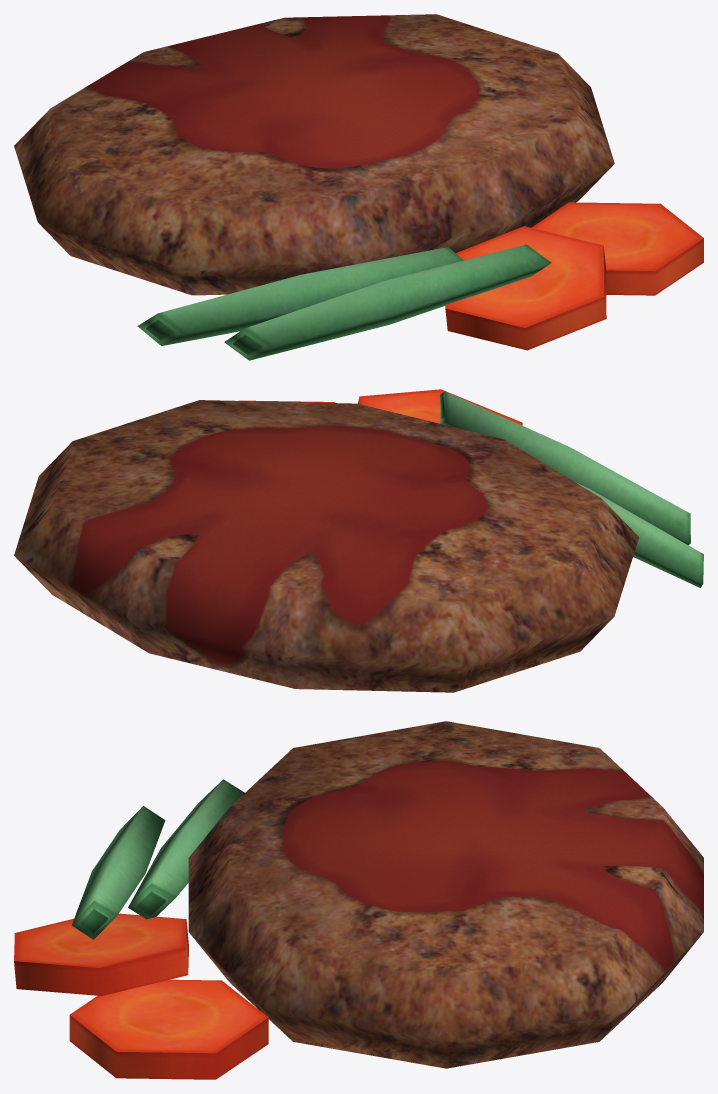
Rendered from HamburgerSteak.fbx.
3 renders of one model, top to bottom at view 1: azimuth 30°, elevation 25°; view 2: azimuth 150°, elevation 25°; view 3: azimuth 270°, elevation 25°, orthographic. The views are drawn at different scales.
Parts seen in each view (by area): view 1: Empty_Mesh; view 2: Empty_Mesh; view 3: Empty_Mesh.
Boxes of the visible parts, left/top/right/bottom form: Empty_Mesh: left=14, top=14, right=703, bottom=360; Empty_Mesh: left=14, top=389, right=703, bottom=692; Empty_Mesh: left=14, top=721, right=703, bottom=1079.
Size of the model in its own units: 0.354 by 0.0721 by 0.3535.
